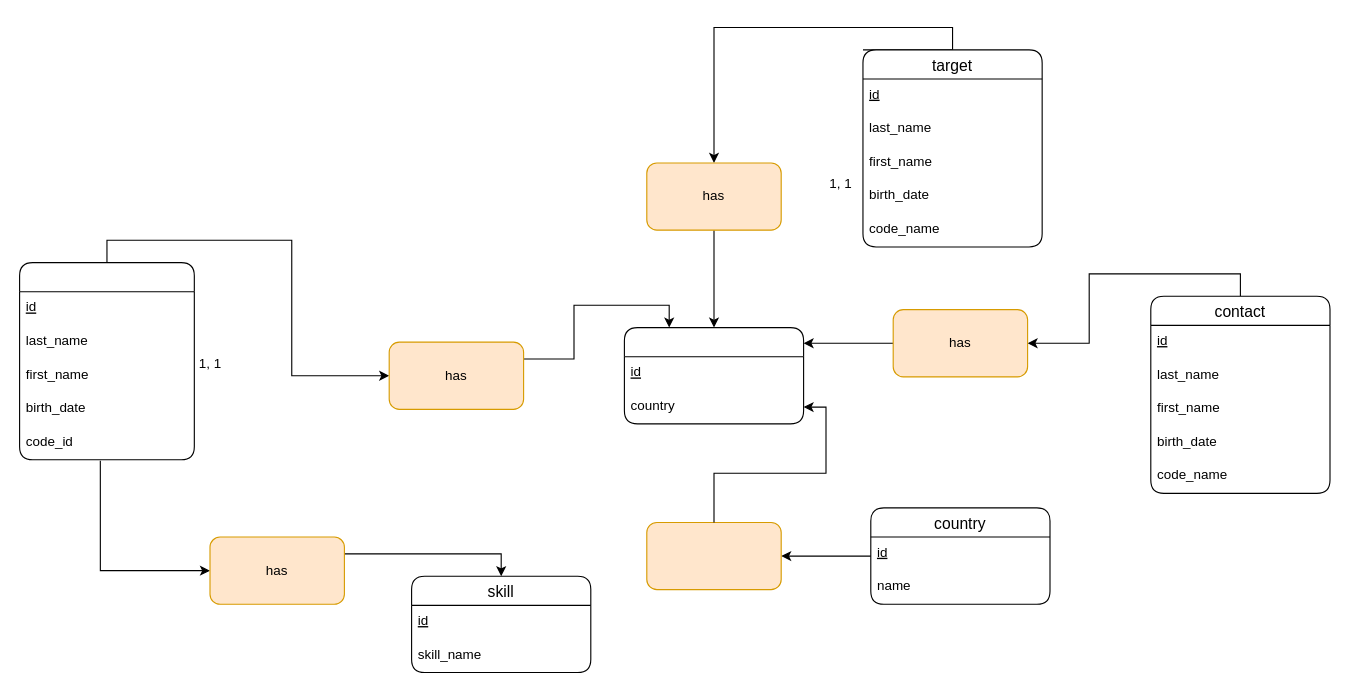
This 1350x696 diagram has some shape labels left out. Each missing label, with the box of its shape:
agent: (18, 262, 194, 460)
belongs to: (646, 521, 781, 590)
nationality: (623, 326, 804, 424)
